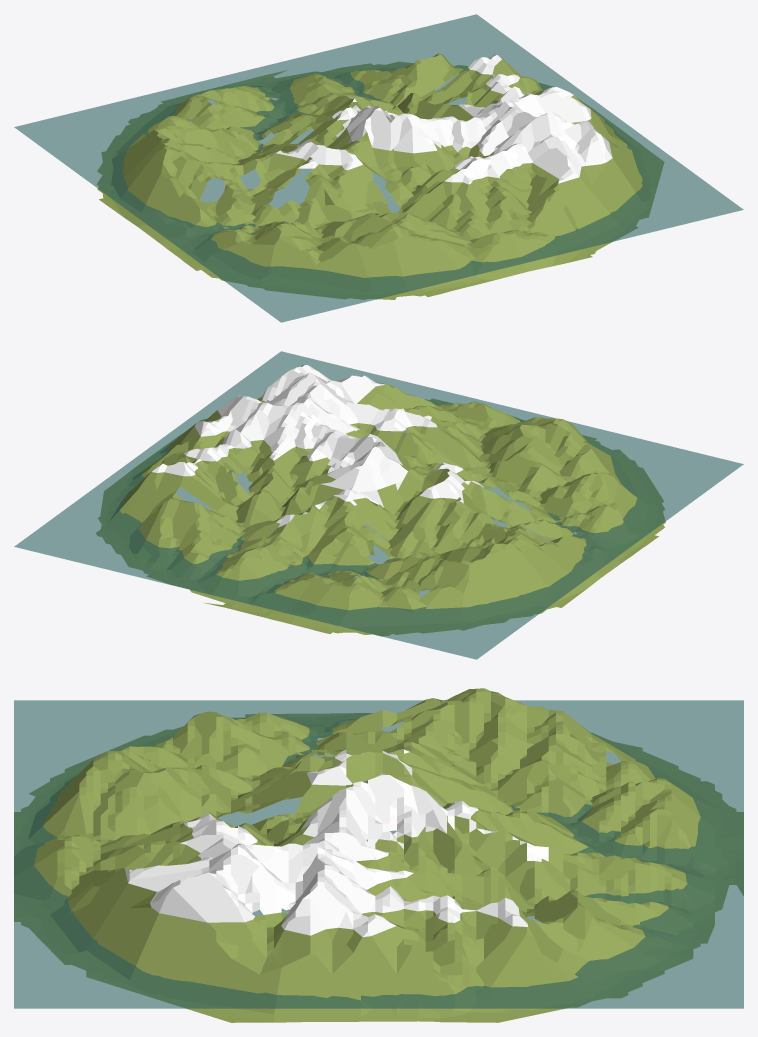
Rendered from new_mountain.glb.
3 views of the same model, one above another, from view 1: azimuth 30°, elevation 25°; view 2: azimuth 150°, elevation 25°; view 3: azimuth 270°, elevation 25° (orthographic). The views are drawn at different scales.
Parts seen in each view (by area): view 1: node_mountain_10944_1, node_water_11062_3; view 2: node_mountain_10944_1, node_water_11062_3; view 3: node_mountain_10944_1, node_water_11062_3.
Part boxes in pixels (x1,y1,x2,y2): node_mountain_10944_1: [97, 53, 664, 299]; node_water_11062_3: [14, 14, 743, 322]; node_mountain_10944_1: [96, 365, 665, 636]; node_water_11062_3: [14, 351, 743, 659]; node_mountain_10944_1: [14, 688, 743, 1022]; node_water_11062_3: [14, 700, 743, 1008].
Size of the model in its own units: 2250 by 352 by 2250.
